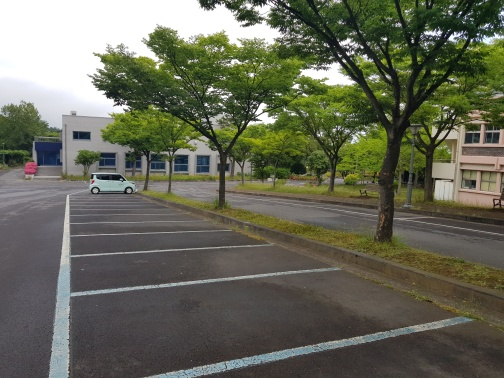College of Social Sciences: (32, 110, 253, 189)
